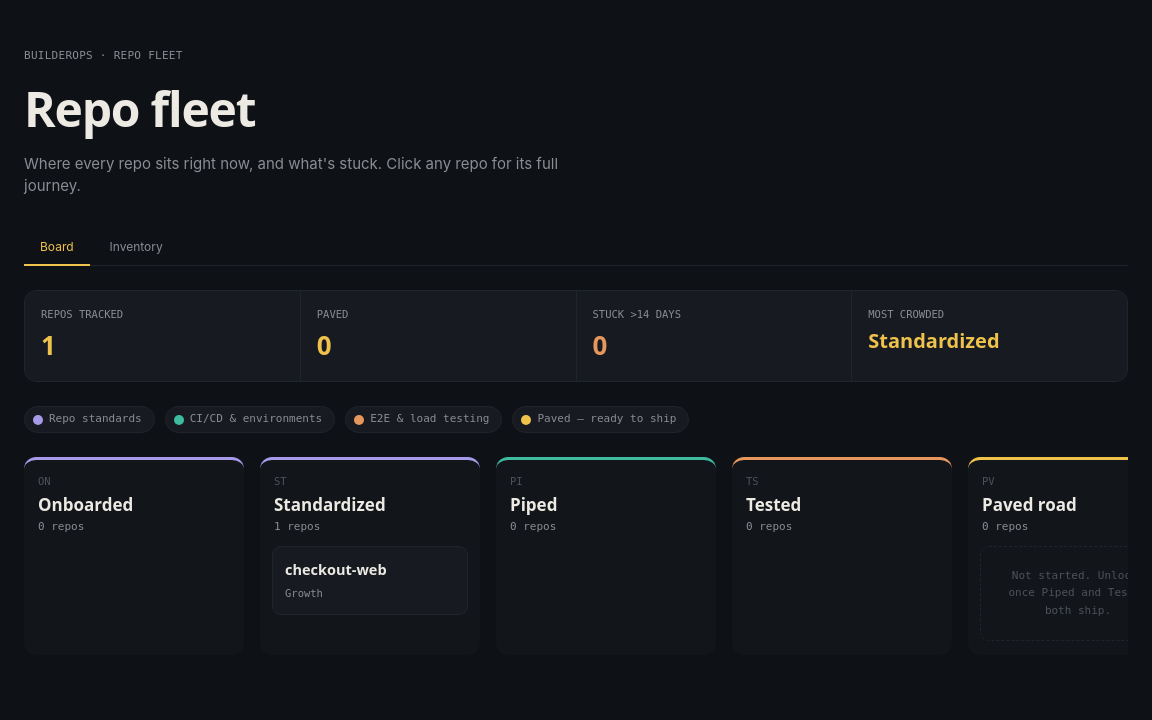
Test: FleetPage › shows Board content by default and switches to Inventory on tab click
The image size is (1152, 720).
Check: the heading "Repo fleet" is shown, box [24, 76, 255, 140]
Check: the text "CI/CD & environments" is shown, box [165, 406, 335, 433]
Click the tab "Inventory": coordinates (136, 248) [94, 230, 179, 266]
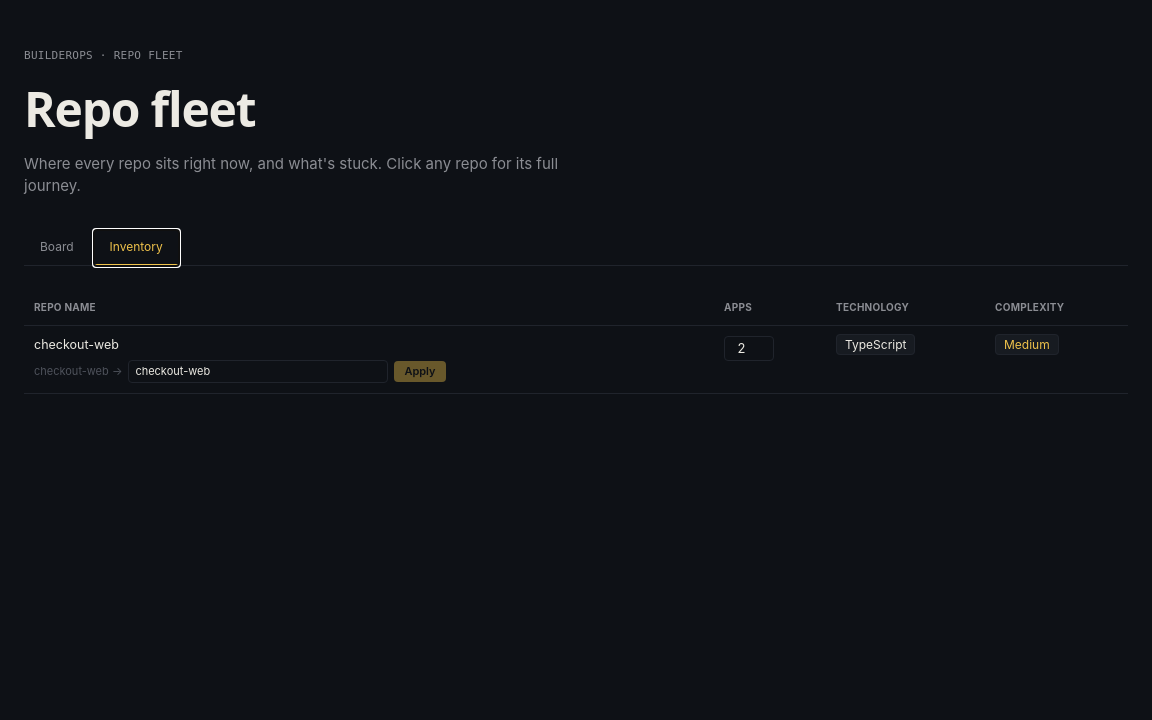
Check: the text "CI/CD & environments" is gone
Check: the text "TypeScript" is shown, box [836, 334, 916, 354]
